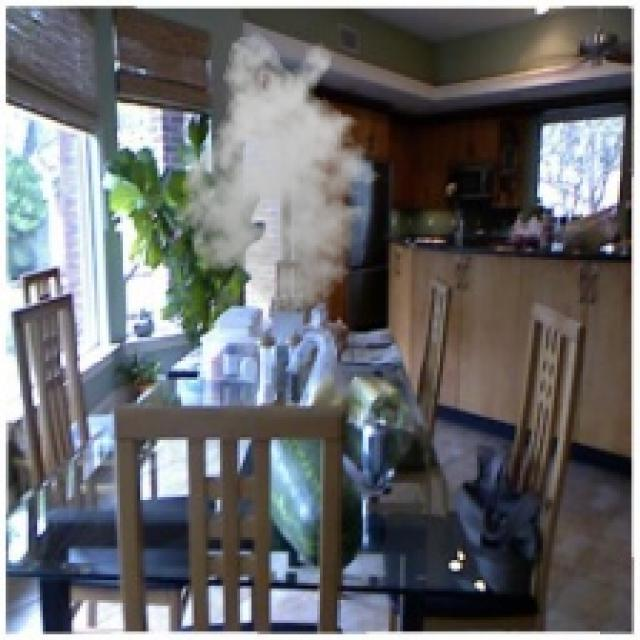Smoke: (168, 31, 392, 312)
